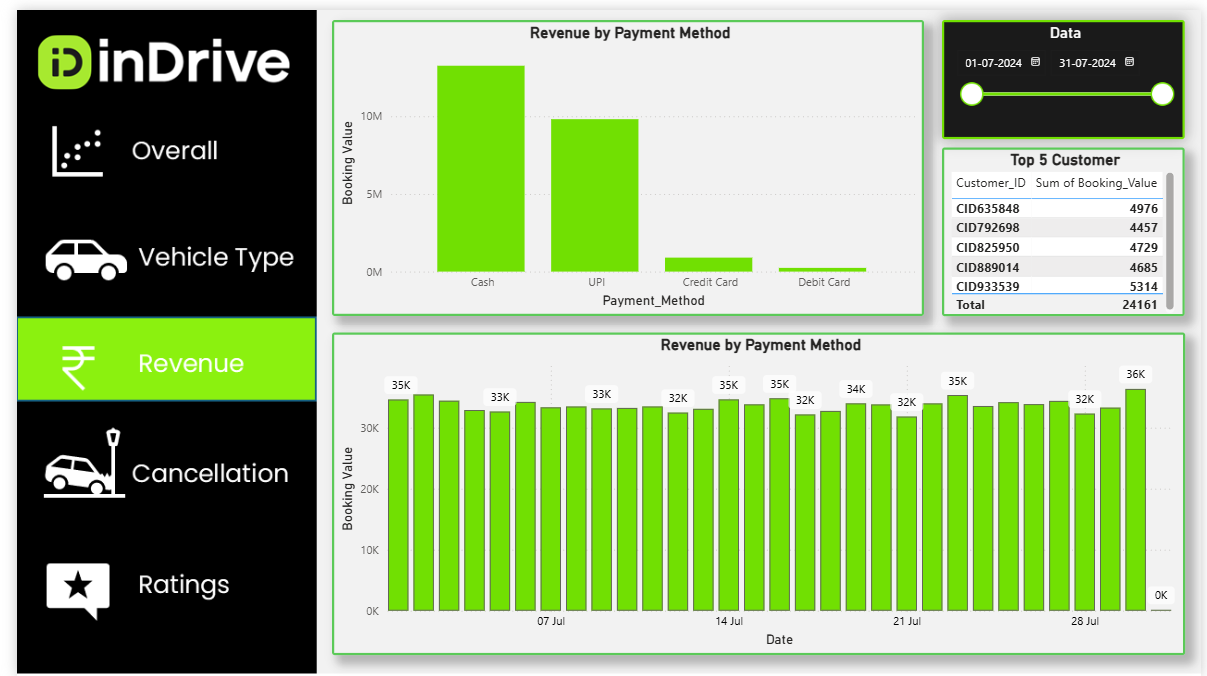

Layout of this report page (visuals, bound fields, positions):
{"tool":"powerbi","page":{"name":"Revenue","canvas":[1280,720],"ordinal":3},"visuals":[{"type":"columnChart","title":"Revenue by Payment Method","fields":{"Category":["Bengaluru_inDrive_Booking_Data_01.Payment_Method"],"Y":["Sum(Bengaluru_inDrive_Booking_Data_01.Booking_Value)"]},"box":[340,10.7,640,320],"z":0},{"type":"lineClusteredColumnComboChart","title":"Revenue by Payment Method","fields":{"Category":["Bengaluru_inDrive_Booking_Data_01.Date"],"Y":["Sum(Bengaluru_inDrive_Booking_Data_01.Ride_Distance)"]},"box":[340,348.8,922.5,348.8],"z":1000},{"type":"slicer","title":"Data","fields":{"Values":["Bengaluru_inDrive_Booking_Data_01.Date"]},"box":[1000,11.2,262.5,128.8],"z":2000},{"type":"tableEx","title":"Top 5 Customer","fields":{"Values":["Bengaluru_inDrive_Booking_Data_01.Customer_ID","Sum(Bengaluru_inDrive_Booking_Data_01.Booking_Value)"]},"box":[1000,148.8,262.5,182.5],"z":3000},{"type":"actionButton","box":[0,218.7,321.3,92],"z":4000},{"type":"actionButton","box":[0,444,321.3,92],"z":5000},{"type":"actionButton","box":[0,577.3,321.3,92],"z":6000},{"type":"actionButton","box":[0,114.7,321.3,92],"z":7000}]}

Visuals, with their boxes in screenshot pixels (x1, y1, x2, y2), scaled from the page's 1280x720 canvas onto the 1207x676 screenshot:
"Revenue by Payment Method" columnChart: crop(321, 10, 924, 310)
"Revenue by Payment Method" lineClusteredColumnComboChart: crop(321, 327, 1190, 655)
"Data" slicer: crop(943, 11, 1190, 131)
"Top 5 Customer" tableEx: crop(943, 140, 1190, 311)
actionButton: crop(0, 205, 303, 292)
actionButton: crop(0, 417, 303, 503)
actionButton: crop(0, 542, 303, 628)
actionButton: crop(0, 108, 303, 194)
